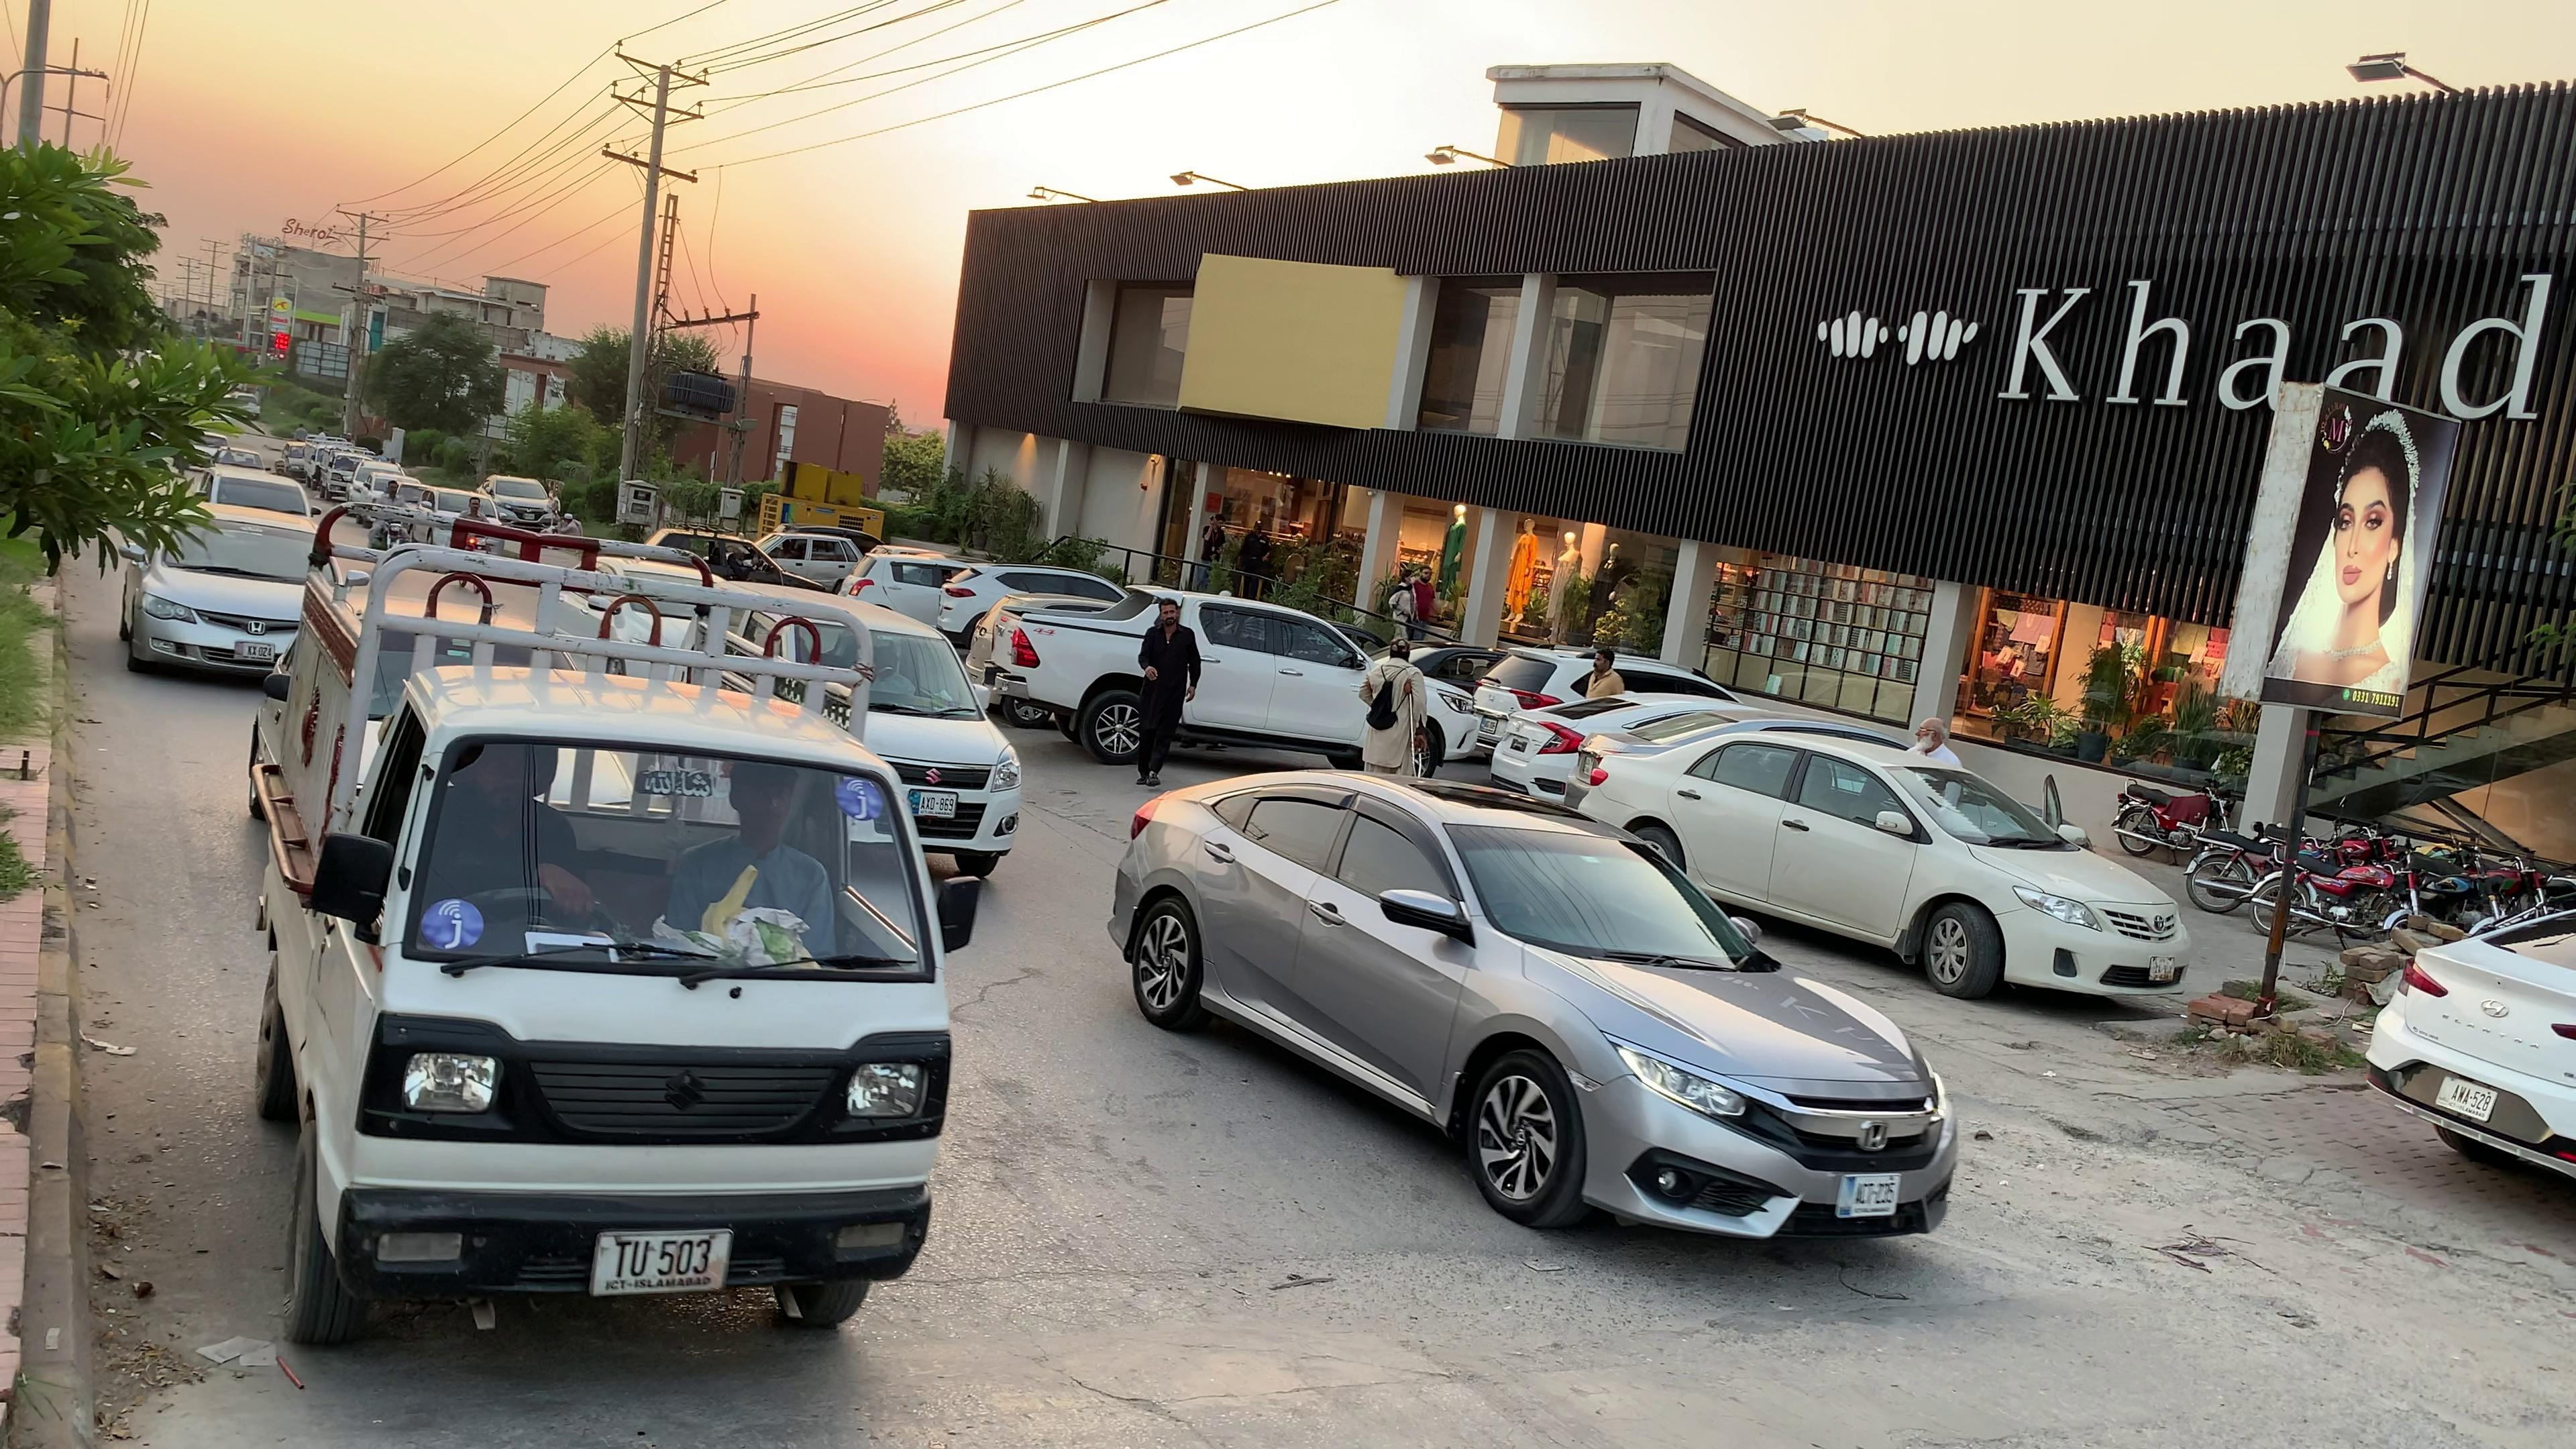windshield: (377, 741, 954, 993), (1426, 805, 1789, 980)
